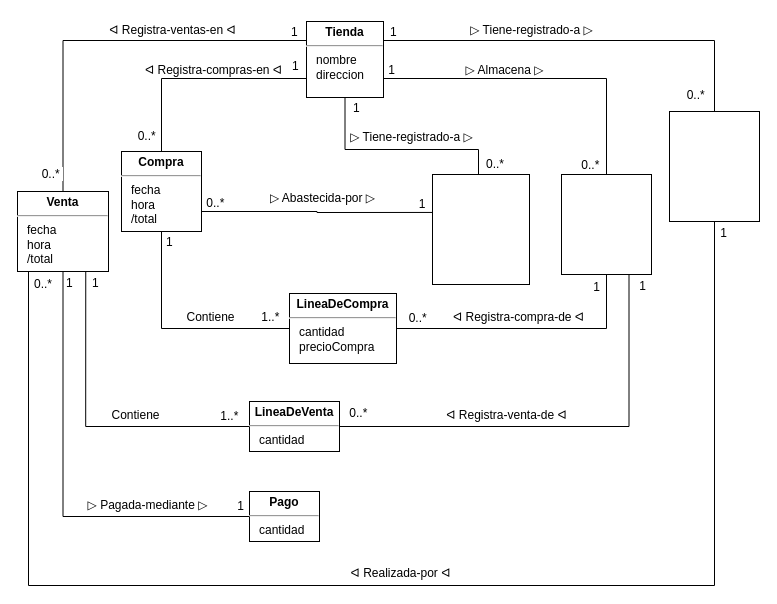
The diagram is 777 pixels wide and 604 high, and some of its shapes have lost their labels. The shapes that lost their labels are listed below. From the top down, each one's centre as x and y in pixels, then its label:
At (714,166): "Cliente codigoInterno nombre rucCi direccion telefono".
At (481,229): "Proveedor codigoInterno nombre rucCi direccion telefono".
At (606,224): "Producto codigoInterno descripcion precioVenta existencia".
